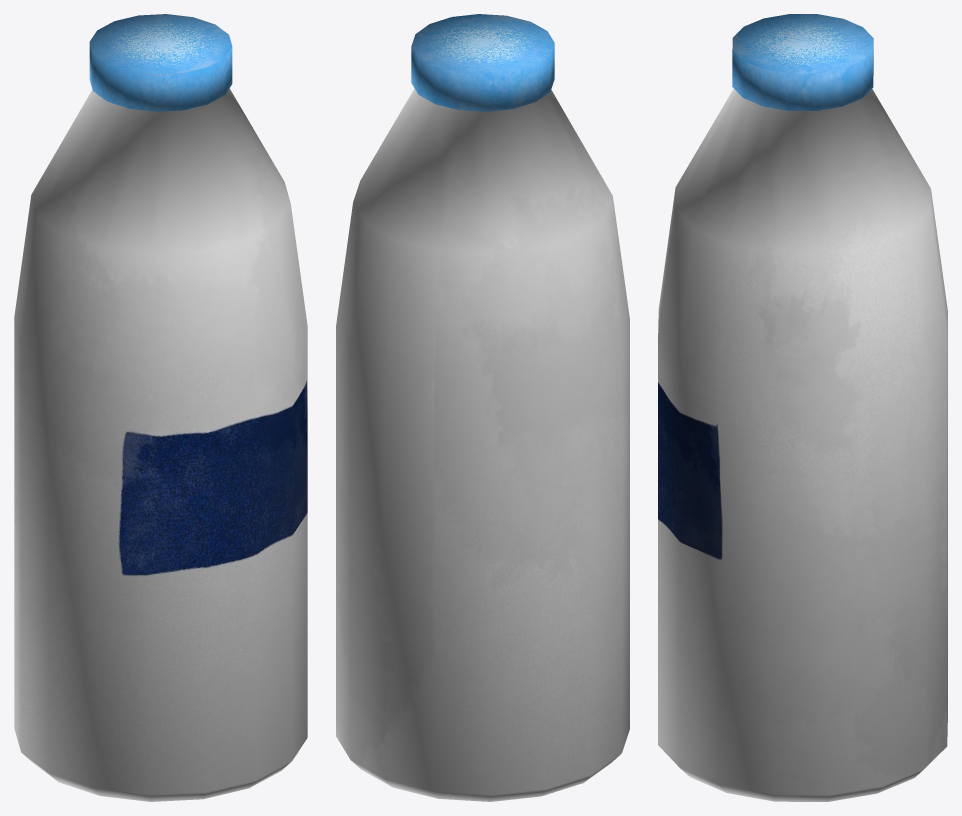
The model's file is 04-lait-model.glb.
The picture shows the model from 3 angles, left to right: view 1: azimuth 30°, elevation 25°; view 2: azimuth 150°, elevation 25°; view 3: azimuth 270°, elevation 25°; orthographic projection.
Parts seen in each view (by area): view 1: 04-lait-model; view 2: 04-lait-model; view 3: 04-lait-model.
Part boxes in pixels (x1,y1,x2,y2): 04-lait-model: (14,14,307,801); 04-lait-model: (336,14,629,801); 04-lait-model: (658,14,947,801).
Bounding box in the file's own units: 1.43 × 3.82 × 1.43.
Materials: 1 (1 with a texture image).
